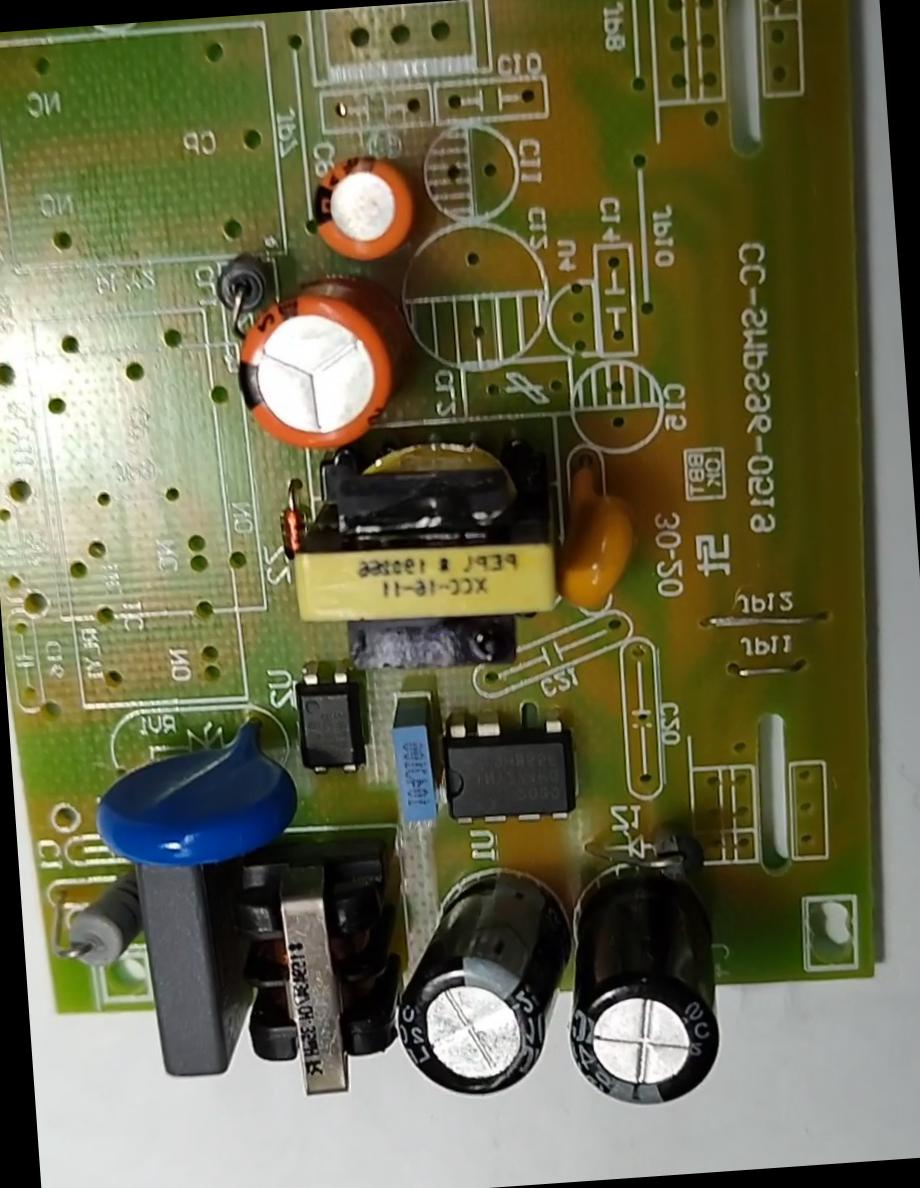Cap1: (226, 265, 410, 458)
Cap2: (299, 136, 426, 271)
Cap3: (380, 860, 581, 1106)
Cap4: (550, 856, 736, 1090)
MOSFET: (439, 702, 583, 838)
Mov: (82, 708, 307, 876)
Resistor: (50, 876, 144, 976)
Transformer: (278, 420, 568, 678), (210, 834, 414, 1113)
